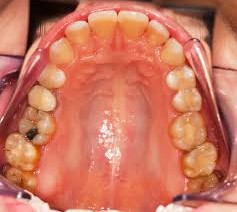UL1BC_healthy: (37, 65, 66, 89), (167, 65, 197, 87)
UL1M_decay: (19, 107, 57, 143)
UL1M_healthy: (172, 110, 209, 147)
UL2BC_healthy: (29, 84, 57, 110), (173, 87, 203, 111)
UL2M_healthy: (6, 135, 39, 170), (185, 146, 218, 175)
UL3M_decay: (189, 177, 220, 195)
UL3M_healthy: (6, 169, 37, 192)
ULCI_healthy: (88, 10, 118, 48), (120, 11, 149, 43)
ULC_healthy: (161, 39, 188, 67), (49, 38, 72, 63)
ULLI_healthy: (65, 20, 89, 49), (149, 20, 168, 48)
